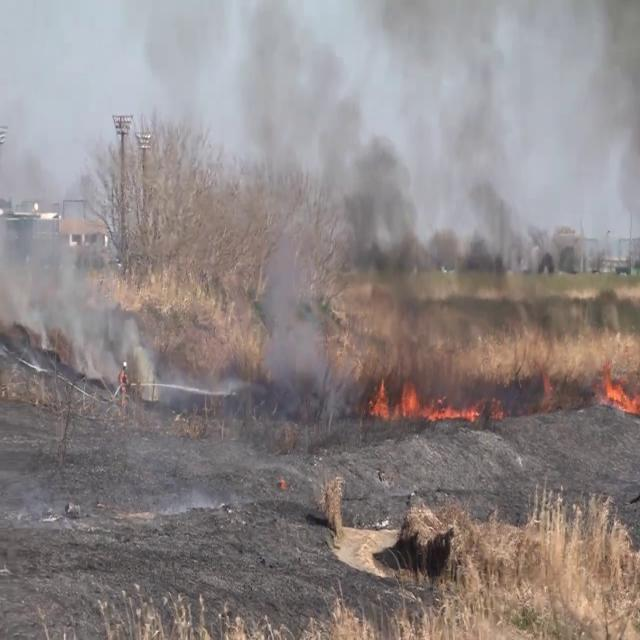Fire: (367, 371, 483, 429), (389, 379, 485, 428), (597, 370, 639, 418)
Smoke: (206, 2, 640, 369), (0, 153, 160, 400)
